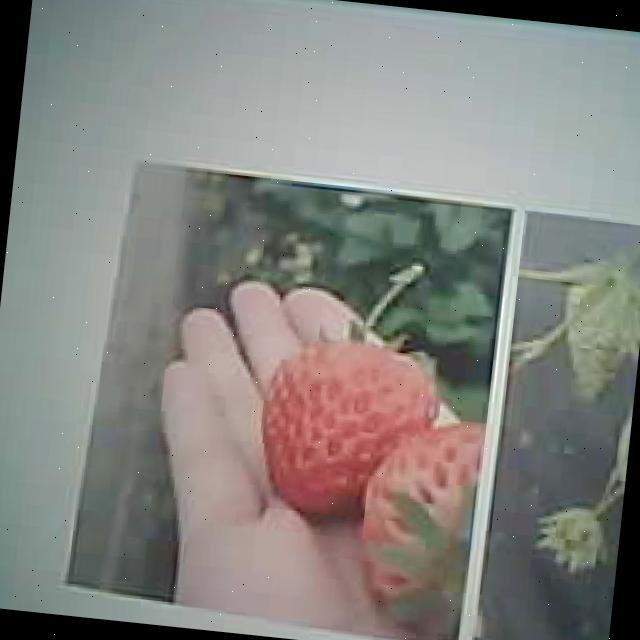strawberry: (256, 340, 436, 524), (348, 413, 485, 640), (557, 259, 640, 402)
